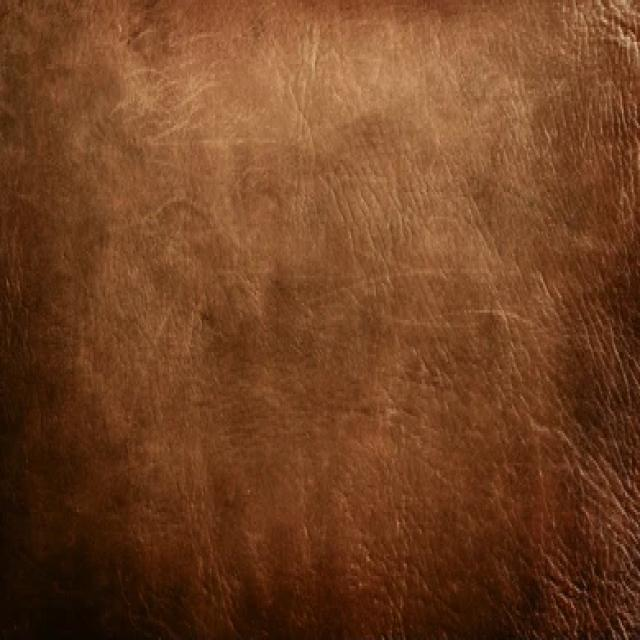Rotten surface: (189, 51, 539, 176), (537, 392, 626, 617)
